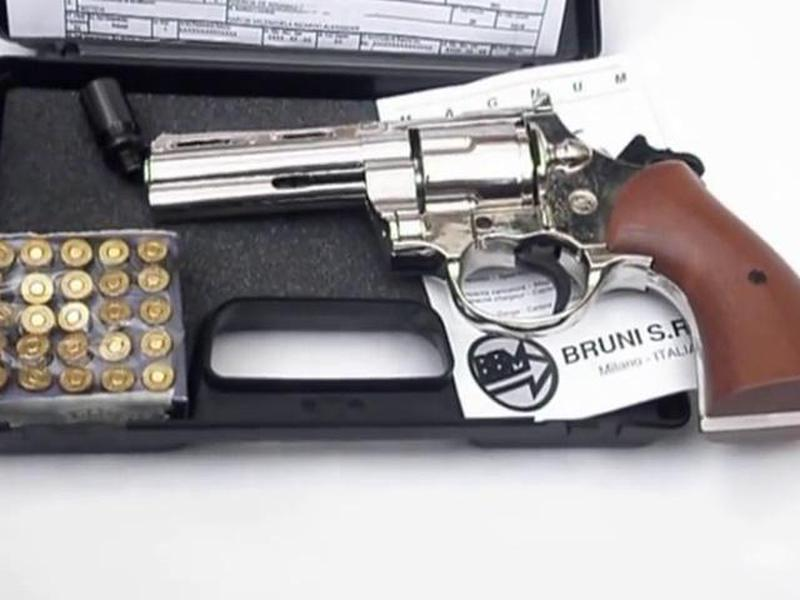Revolver: (147, 72, 780, 383)
